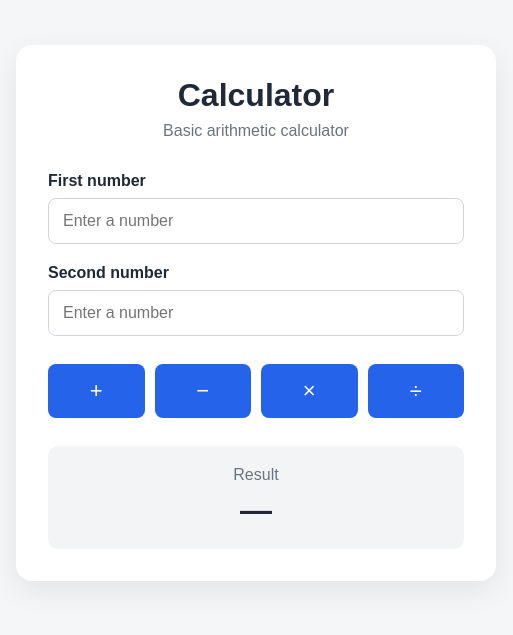
Scenario: Calculator › shows an error when dividing by zero
Step 1. Type "10" into the number field labelled "First number" → (256, 221), box [48, 198, 464, 244]
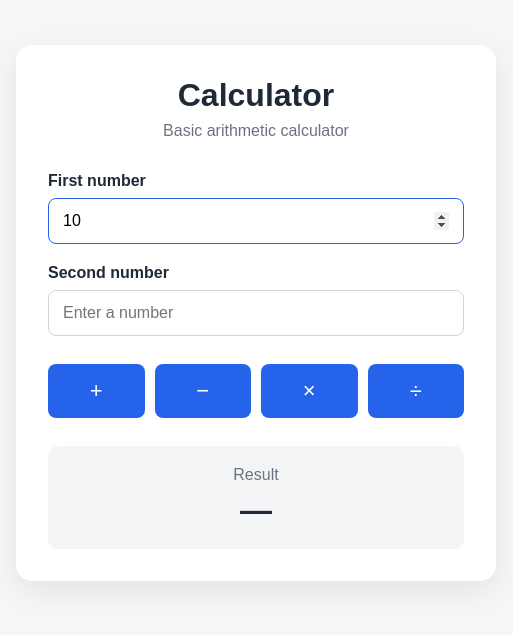
Step 2. Type "0" into the number field labelled "Second number" → (256, 313), box [48, 290, 464, 336]
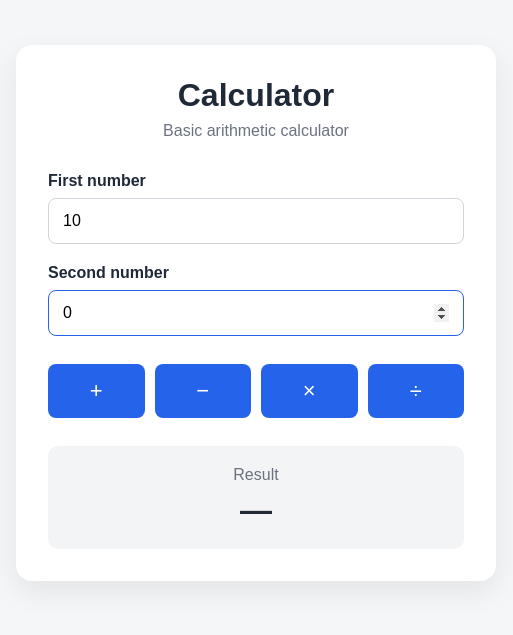
Step 3. Click the button "÷" → (416, 391), box [368, 364, 464, 418]
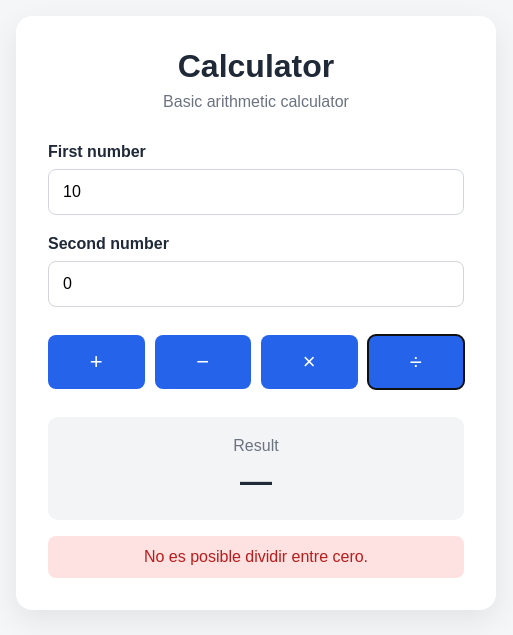
Expected: the text "No es posible dividir entre cero." is shown, [48, 536, 464, 578]
